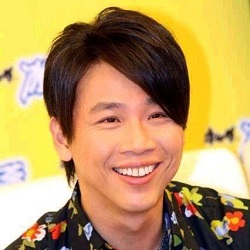unmask: (57, 72, 189, 215)
